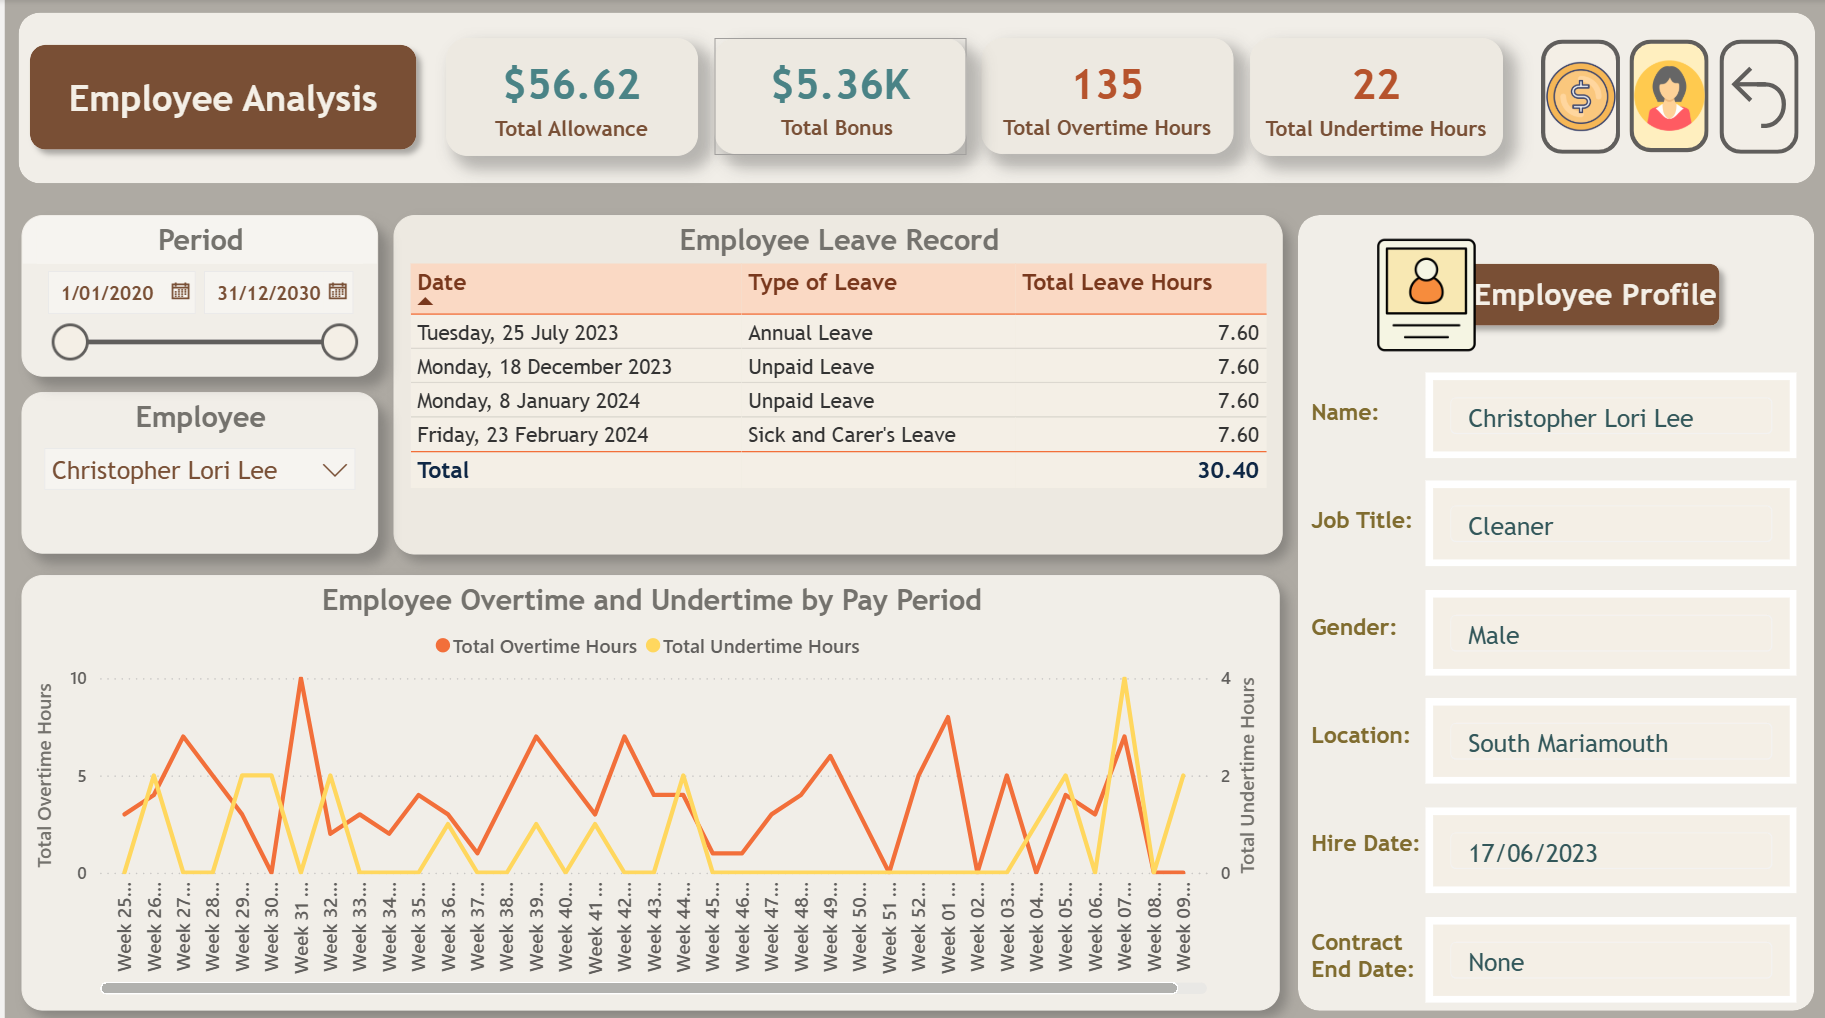

This screenshot's page, from the dashboard's own definition file:
{"tool":"powerbi","page":{"name":"Employee Analysis","canvas":[1280,720],"ordinal":1},"visuals":[{"type":"lineChart","title":"Employee Overtime and Undertime by Pay Period","fields":{"Category":["dim_pay_periods.pay_period_label"],"Y":["Measure Table.Total Overtime Hours"],"Y2":["Measure Table.Total Undertime Hours"]},"box":[12,403.7,882.2,305],"z":0},{"type":"tableEx","title":"Employee Leave Record","fields":{"Values":["fact_employee_leaves.leave_start_date","fact_employee_leaves.leave_type","Sum(fact_employee_leaves.leave_hours)"]},"box":[272.1,151,623.6,237.8],"z":1000},{"type":"slicer","title":"Employee","fields":{"Values":["dim_employees.EMPLOYEE_FULL_NAME"]},"box":[12,275.1,249.7,113.6],"z":2000},{"type":"shape","box":[9.9,9.9,1259.4,119.8],"z":3000},{"type":"card","fields":{"Values":["Measure Table.Total Overtime Hours"]},"box":[685,27.6,176.6,81.5],"z":4000},{"type":"card","fields":{"Values":["Measure Table.Total Undertime Hours"]},"box":[873,27,177,82.7],"z":5000},{"type":"card","fields":{"Values":["Measure Table.Total Allowance Card"]},"box":[309,27,176.6,82.7],"z":6000},{"type":"shape","box":[8.6,22.6,288.9,91.4],"z":7000},{"type":"card","fields":{"Values":["Measure Table.Total Bonus Card"]},"box":[497,27.6,176.6,81.5],"z":8000},{"type":"actionButton","box":[1201.4,28.2,55.6,80.3],"z":9000},{"type":"actionButton","box":[1076.7,28.2,55.6,80.3],"z":10000},{"type":"actionButton","box":[1139,28.8,55.6,79],"z":11000},{"type":"shape","box":[906.2,151,361.9,557.8],"z":12000},{"type":"cardVisual","fields":{"Data":["Min(dim_employees.current_job_title)"]},"box":[996.1,337.9,260,60],"z":13000},{"type":"slicer","title":"Period","fields":{"Values":["dim_dates.date"]},"box":[12,151,249.7,113],"z":14000},{"type":"cardVisual","fields":{"Data":["Min(dim_employees.employee_gender)"]},"box":[996.1,414.2,260,60],"z":15000},{"type":"cardVisual","fields":{"Data":["Min(dim_employees.employee_location)"]},"box":[996.1,490.5,260,60],"z":16000},{"type":"cardVisual","fields":{"Data":["Min(dim_employees.hire_date)"]},"box":[996.1,566.7,260,60],"z":17000},{"type":"cardVisual","fields":{"Data":["Measure Table.Contract End Date"]},"box":[996.1,643,260,60],"z":18000},{"type":"cardVisual","fields":{"Data":["Min(dim_employees.EMPLOYEE_FULL_NAME)"]},"box":[995.9,261.7,260.2,60],"z":19000},{"type":"actionButton","box":[933.1,272.1,100.2,40.4],"z":20000},{"type":"actionButton","box":[912.1,269.2,71.8,40.4],"z":21000},{"type":"actionButton","box":[912.1,646,88.2,49.3],"z":22000},{"type":"actionButton","box":[912.1,570.6,137.6,40.4],"z":23000},{"type":"actionButton","box":[912.1,495.3,137.6,40.4],"z":24000},{"type":"actionButton","box":[912.1,419.9,137.6,40.4],"z":25000},{"type":"actionButton","box":[912.1,344.5,137.6,40.4],"z":26000},{"type":"shape","box":[961.5,176.4,249.7,61.3],"z":27000},{"type":"image","box":[927.1,167.5,137.6,80.7],"z":28000}]}

Visuals, with their boxes in screenshot pixels (x1, y1, x2, y2), scaled from the page's 1280x720 canvas onto the 1825x1018 screenshot:
"Employee Overtime and Undertime by Pay Period" lineChart: 17 571 1275 1002
"Employee Leave Record" tableEx: 388 213 1277 550
"Employee" slicer: 17 389 373 550
shape: 14 14 1810 183
card - Measure Table.Total Overtime Hours: 977 39 1228 154
card - Measure Table.Total Undertime Hours: 1245 38 1497 155
card - Measure Table.Total Allowance Card: 441 38 692 155
shape: 12 32 424 161
card - Measure Table.Total Bonus Card: 709 39 960 154
actionButton: 1713 40 1792 153
actionButton: 1535 40 1614 153
actionButton: 1624 41 1703 152
shape: 1292 213 1808 1002
cardVisual - Min(dim_employees.current_job_title): 1420 478 1791 563
"Period" slicer: 17 213 373 373
cardVisual - Min(dim_employees.employee_gender): 1420 586 1791 670
cardVisual - Min(dim_employees.employee_location): 1420 694 1791 778
cardVisual - Min(dim_employees.hire_date): 1420 801 1791 886
cardVisual - Measure Table.Contract End Date: 1420 909 1791 994
cardVisual - Min(dim_employees.EMPLOYEE_FULL_NAME): 1420 370 1791 455
actionButton: 1330 385 1473 442
actionButton: 1300 381 1403 438
actionButton: 1300 913 1426 983
actionButton: 1300 807 1497 864
actionButton: 1300 700 1497 757
actionButton: 1300 594 1497 651
actionButton: 1300 487 1497 544
shape: 1371 249 1727 336
image: 1322 237 1518 351
